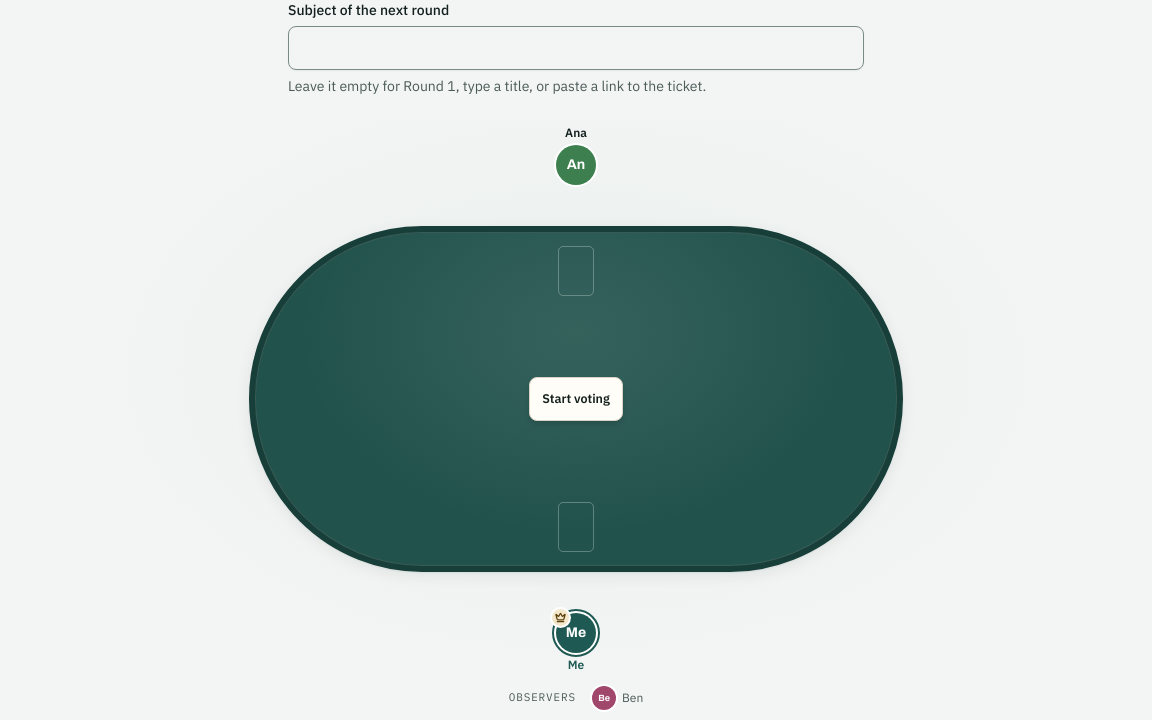
the PO's actions in a popover › disables the focused Make product owner when the person goes away, the focus staying
Click the button "An Ana".
click(576, 155)  # box [531,125,621,185]
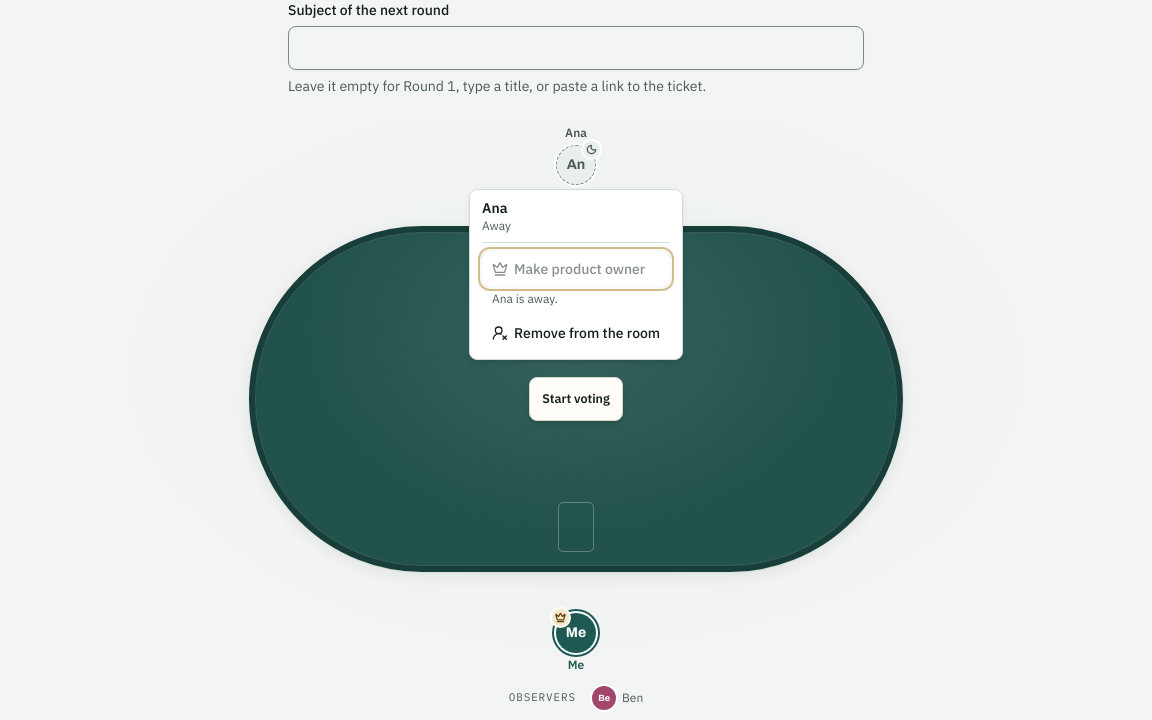
Now the text "Ana is away." is shown, box [492,291,558,306]
